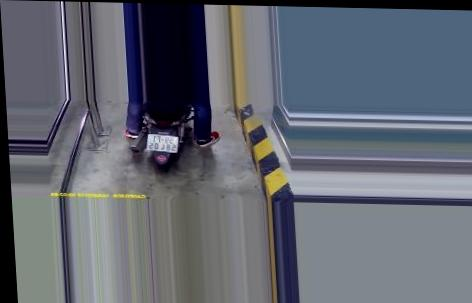License_Plate: (147, 132, 181, 155)
